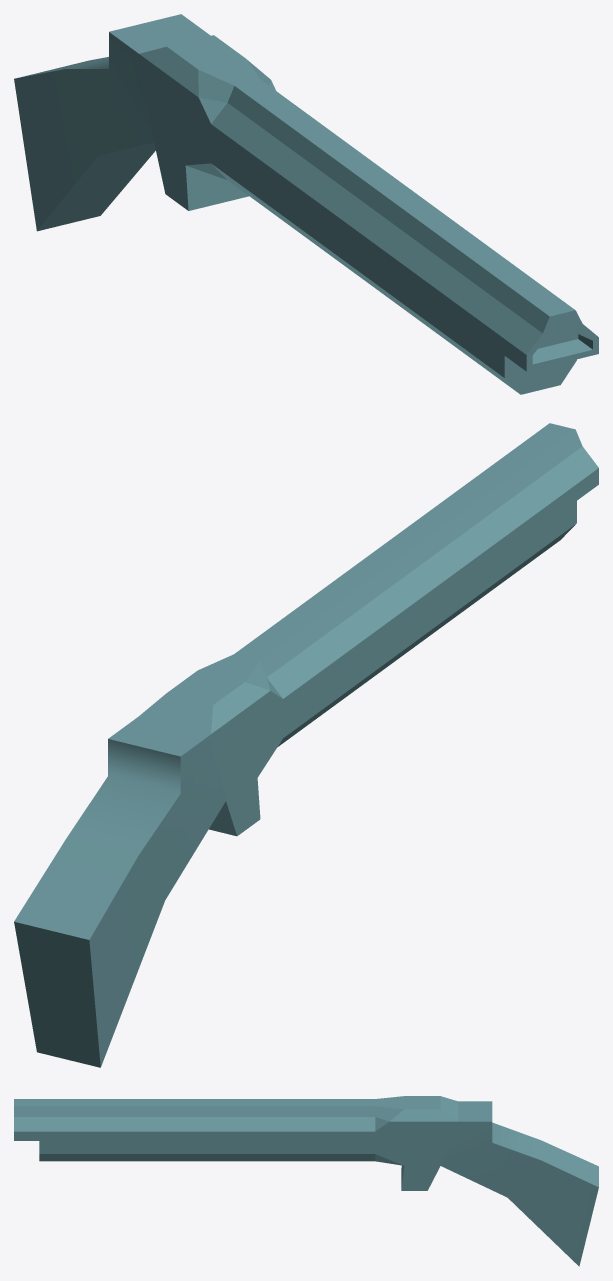
Rendered from S_Shotgun.fbx.
The picture shows the model from 3 angles, top to bottom: view 1: azimuth 30°, elevation 25°; view 2: azimuth 150°, elevation 25°; view 3: azimuth 270°, elevation 25°; orthographic projection. The views are drawn at different scales.
Parts seen in each view (by area): view 1: Shotgun; view 2: Shotgun; view 3: Shotgun.
Boxes of the visible parts, x1,y1,x2,y2 form: Shotgun: (14,14,598,394); Shotgun: (14,423,598,1067); Shotgun: (14,1096,598,1266).
Bounding box in the file's own units: 10.76 × 37.07 × 126.
